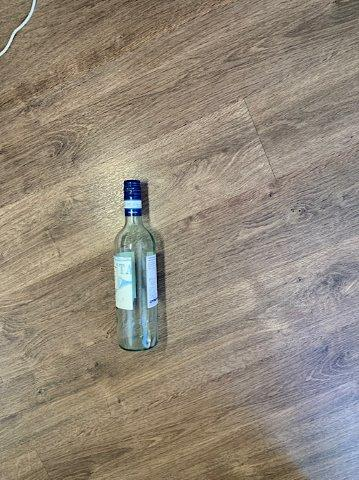botolkaca: (114, 181, 157, 349)
